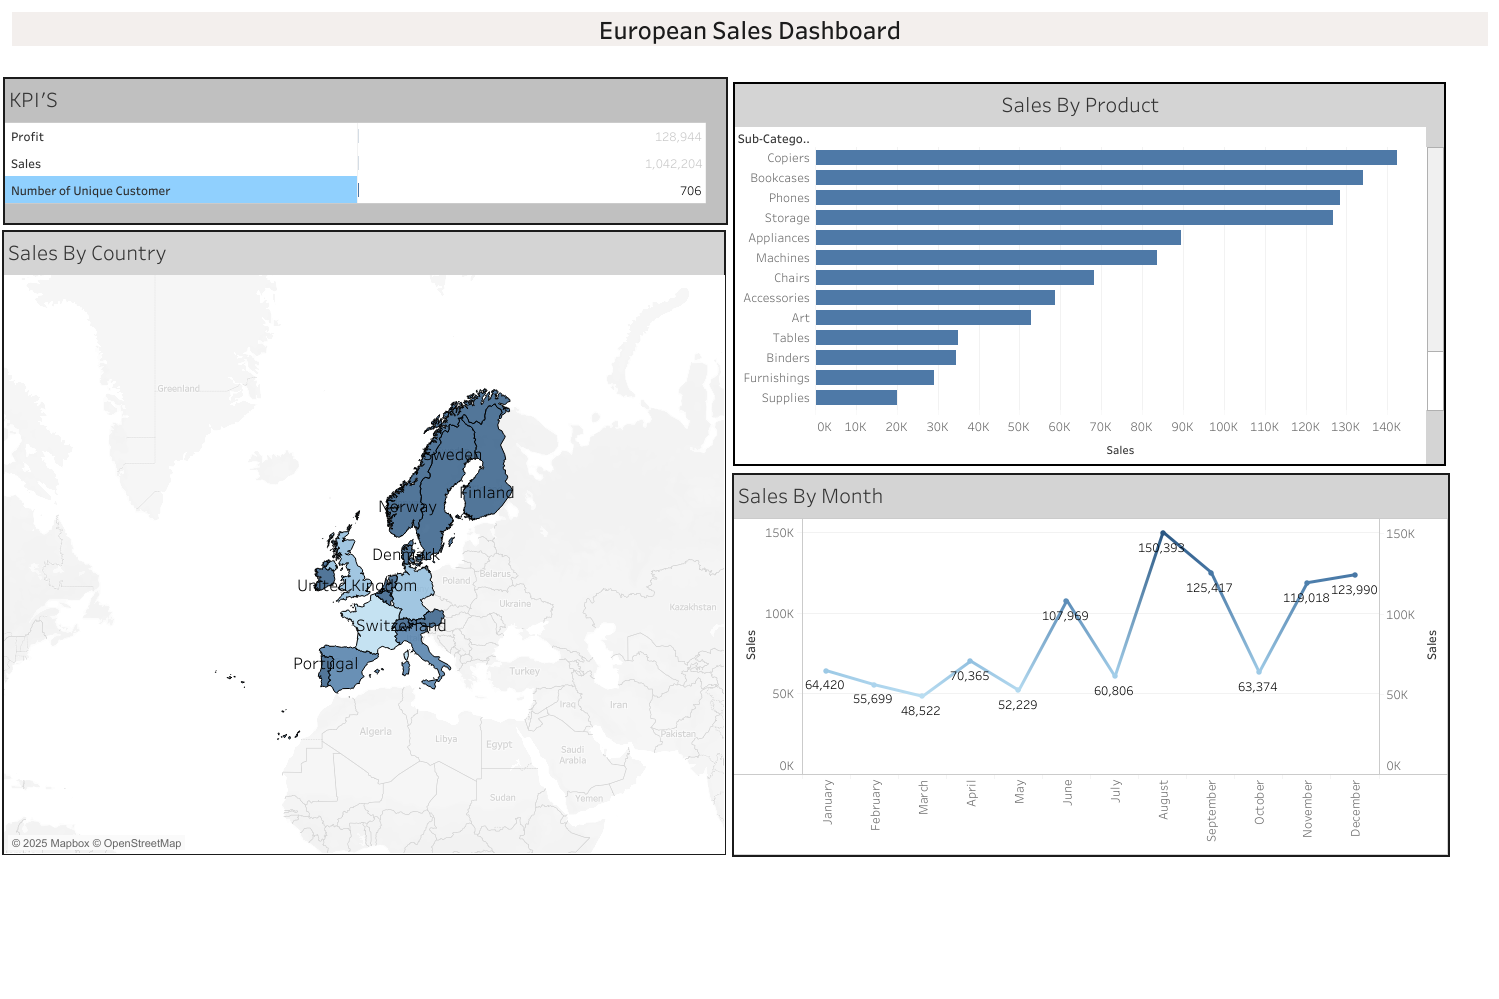

The page's visual inventory and layout, read from the dashboard file:
{"tool":"tableau","page":{"name":"European Sales Dashboard","canvas":[1000,1000],"units":"permille","ordinal":0},"visuals":[{"type":"title","box":[5.3,8,989.3,41]},{"type":"worksheet","title":"KPI'S","mark":"Bar","box":[2,77,483.3,148]},{"type":"worksheet","title":"Sales By Product","mark":"Automatic","rows":["Sub-Category"],"cols":["Sales"],"box":[488.7,82,475.3,384]},{"type":"worksheet","title":"Sales By Country","mark":"Automatic","box":[1.3,230,482.7,625]},{"type":"worksheet","title":"Sales By Month","mark":"Line","rows":["Sales","Sales"],"cols":["Order Date"],"box":[488,473,478.7,384]}]}

Visuals, with their boxes on the dashboard's canvas, which has no fixed pixel size, in thousandths of its width and height (x1, y1, x2, y2). These are canvas units, not pixel positions in the 1499x999 screenshot, which may show the page scaled, cropped or inside an application window:
title: [5,8,995,49]
"KPI'S" worksheet (Bar marks): [2,77,485,225]
"Sales By Product" worksheet: [489,82,964,466]
"Sales By Country" worksheet: [1,230,484,855]
"Sales By Month" worksheet (Line marks): [488,473,967,857]
